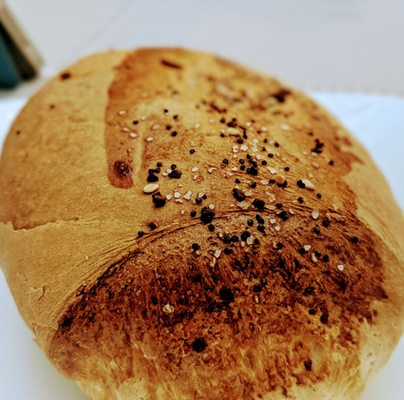sandwich: (0, 46, 403, 392)
sushi: (2, 41, 404, 395)
